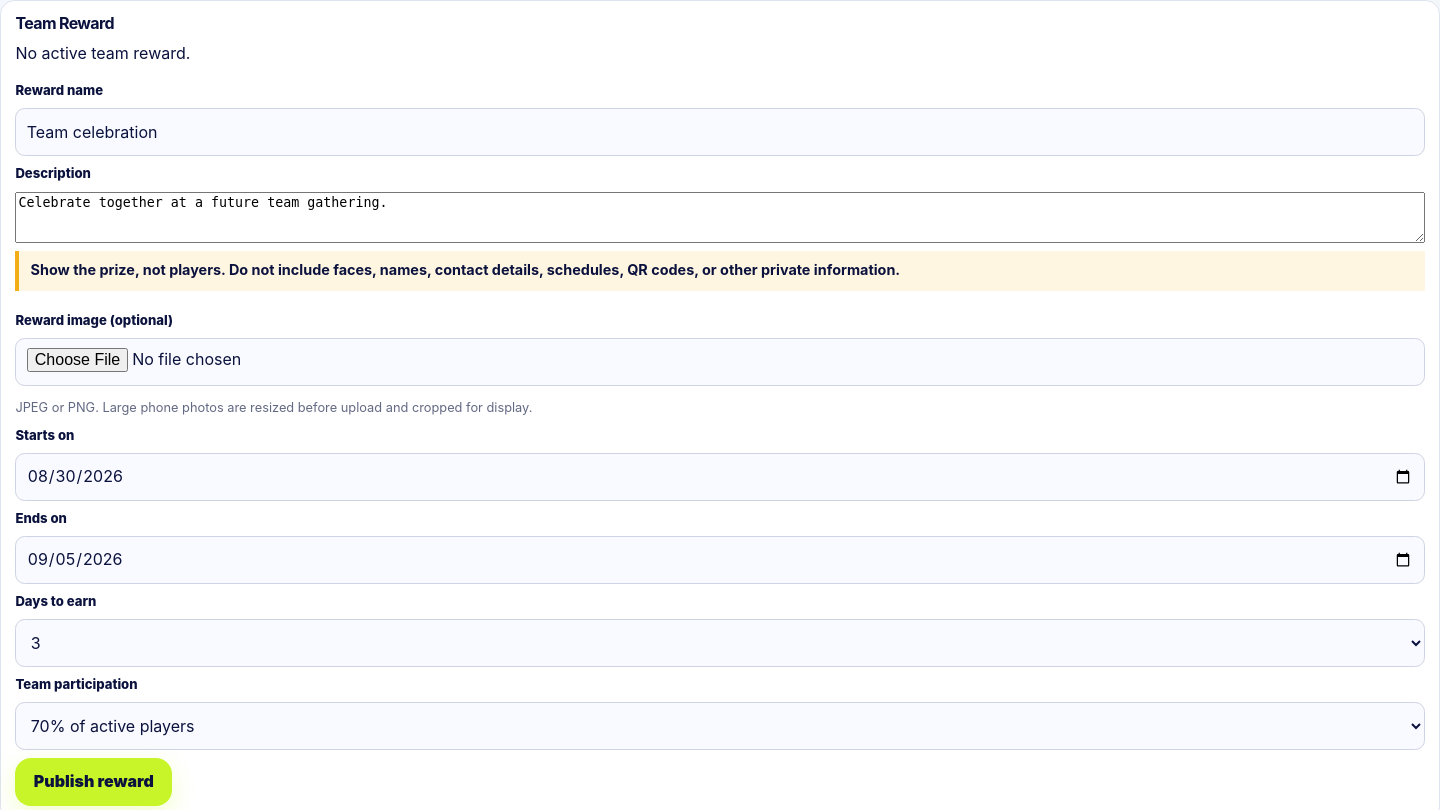
Test: team reward panel › defaults dates and publishes editable reward copy
Expected: the text box labelled "Description" holds "Celebrate together at a future team gathering.", [15,192,1425,242]
Expected: the date field labelled "Starts on" holds "2026-08-30", [15,453,1425,501]
Replace the text in the field labelled "Reward name" with "Pizza party" at coordinates (720, 132), box [15,108,1425,156]
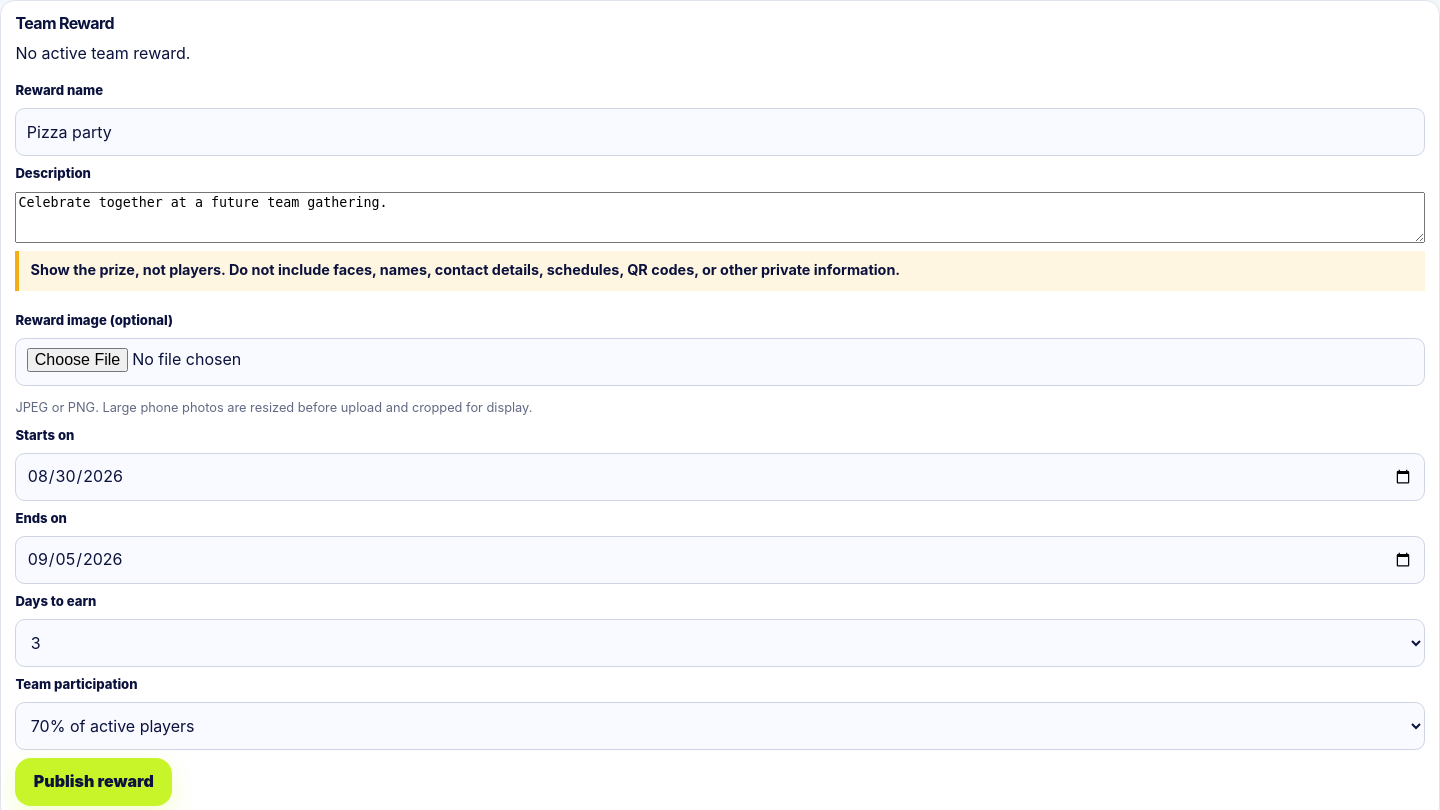
Replace the text in the text box labelled "Description" with "Celebrate together after practice." at coordinates (720, 217), box [15,192,1425,242]
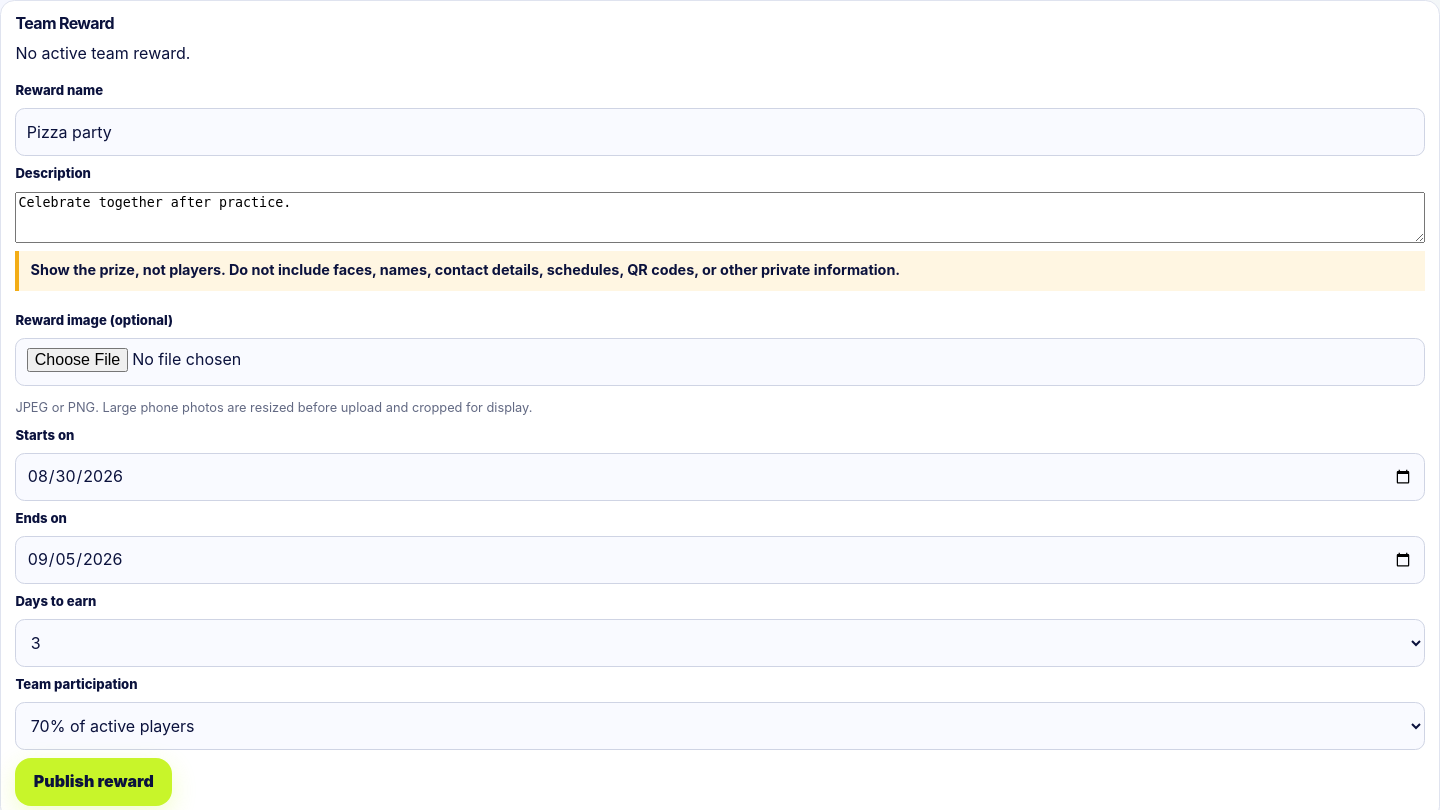
Select "4" in the dropdown labelled "Days to earn" at coordinates (720, 643), box [15,619,1425,667]
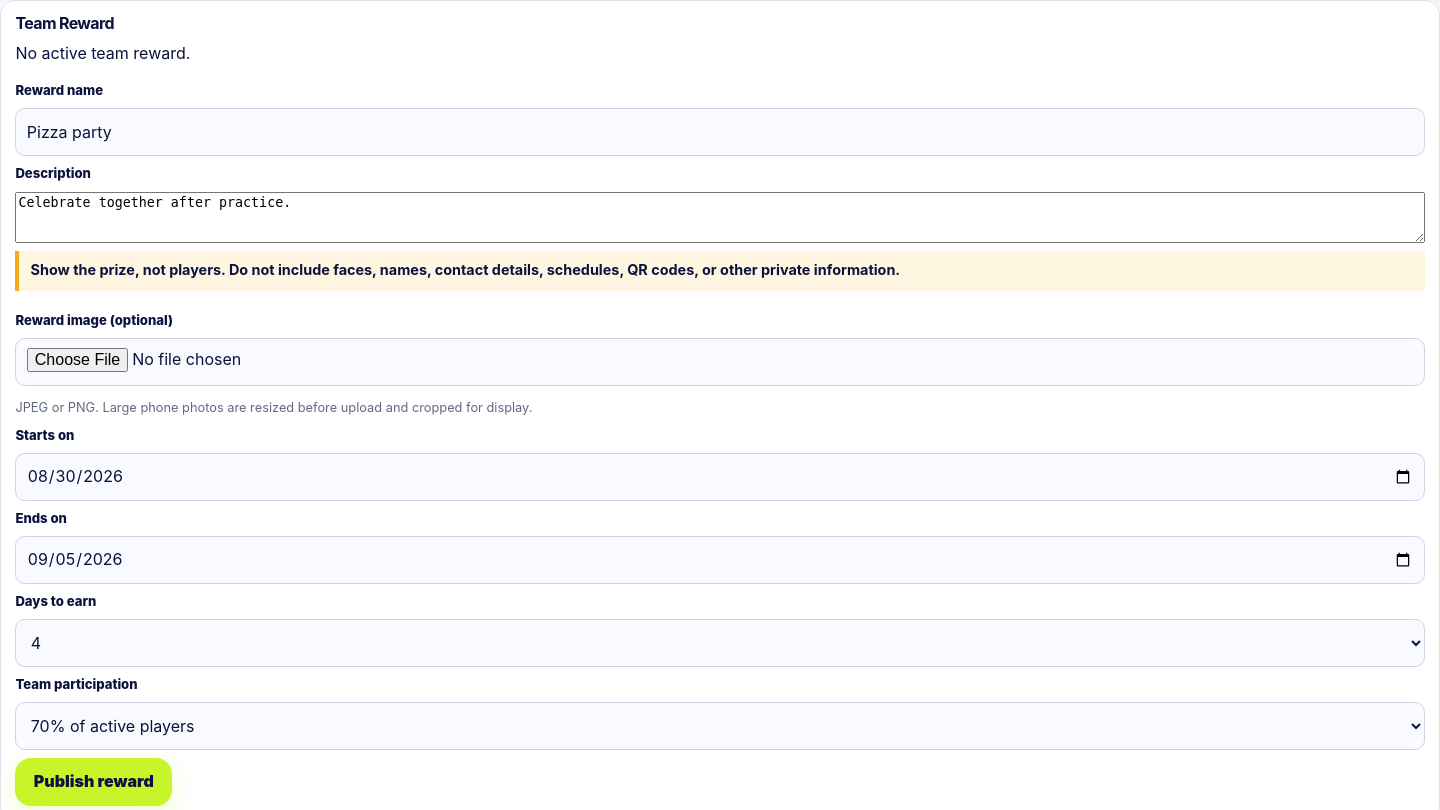
Select "80% of active players" in the dropdown labelled "Team participation" at coordinates (720, 726), box [15,702,1425,750]
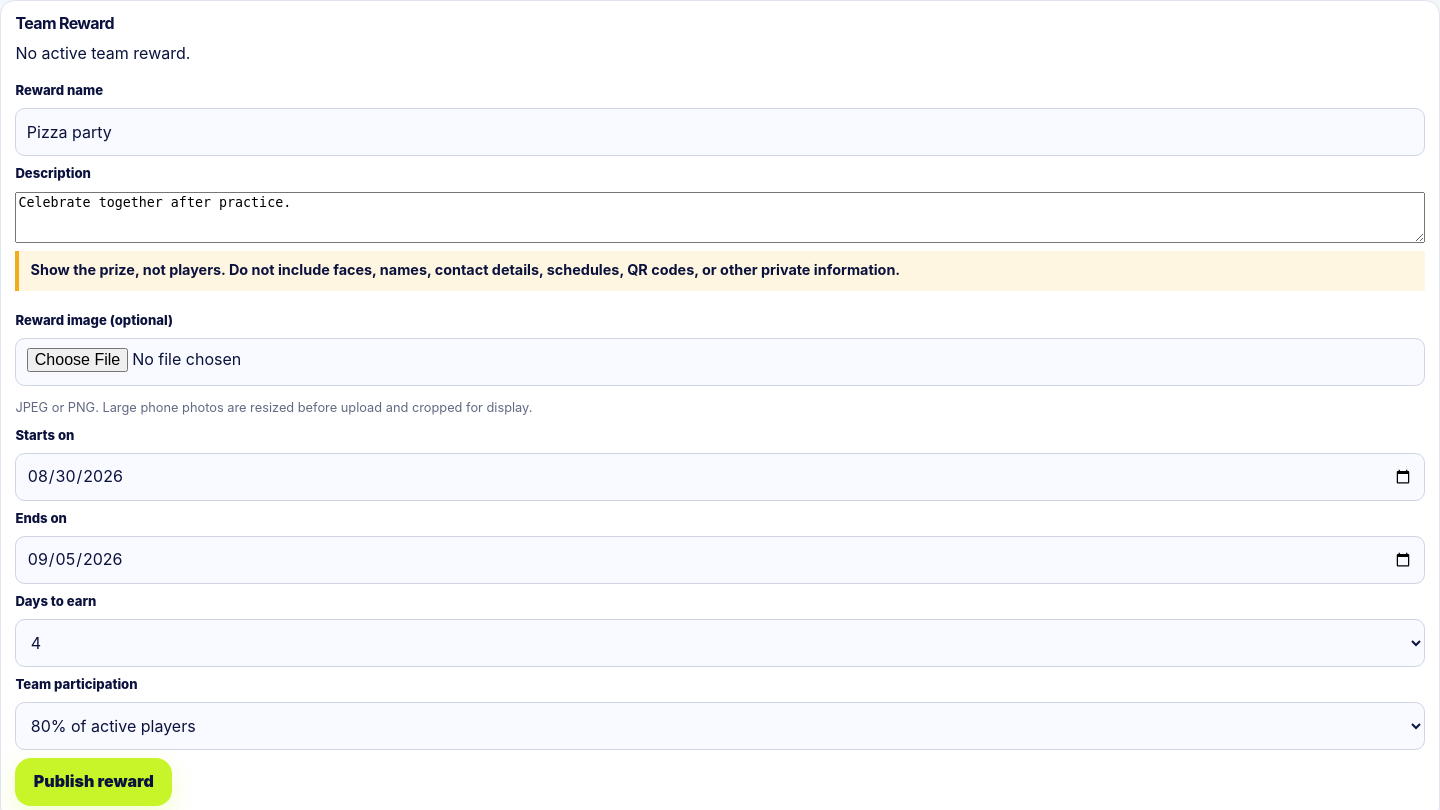
Click the button "Publish reward" at coordinates (94, 782), box [15,758,172,806]
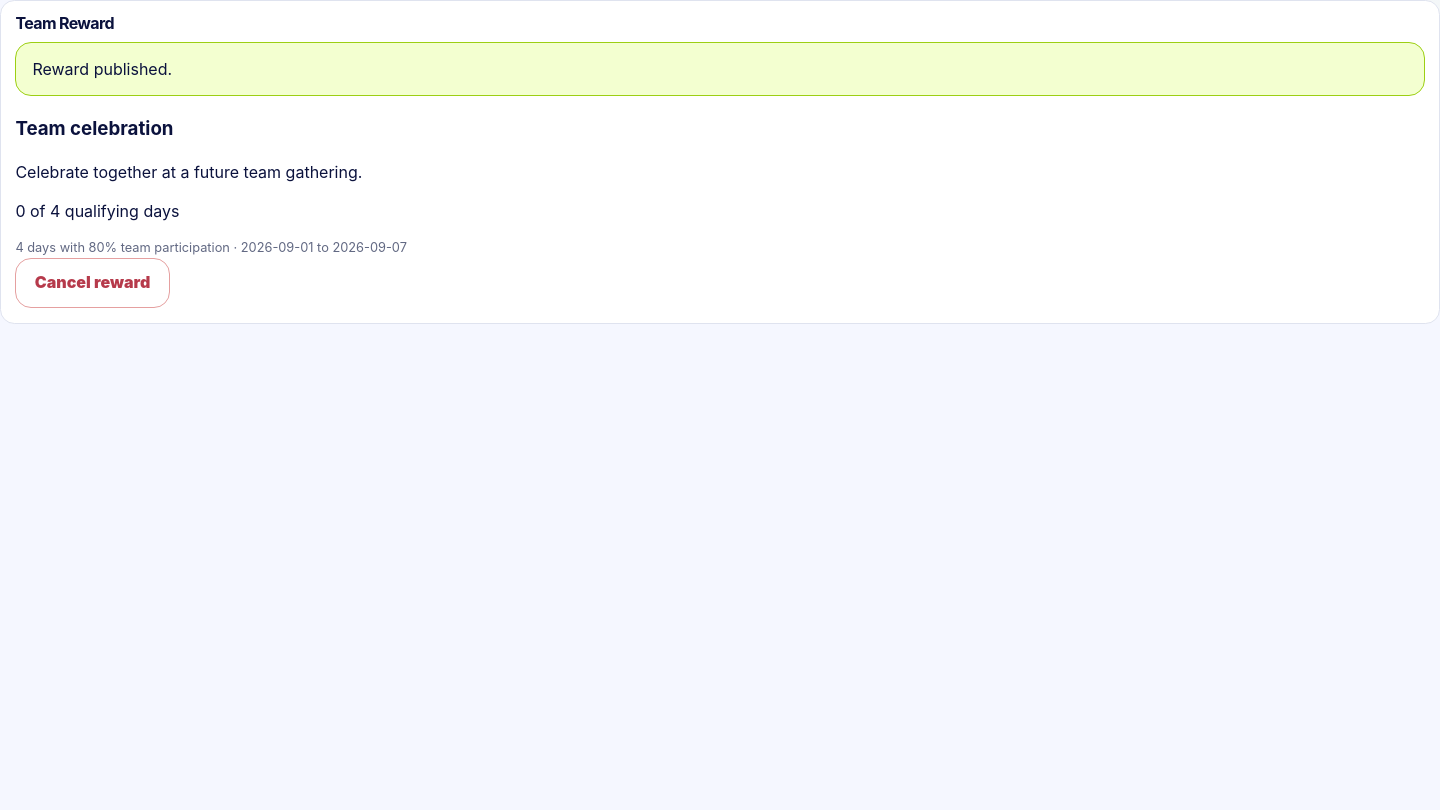
Now the text "Reward published." is shown, box [15,42,1425,96]
